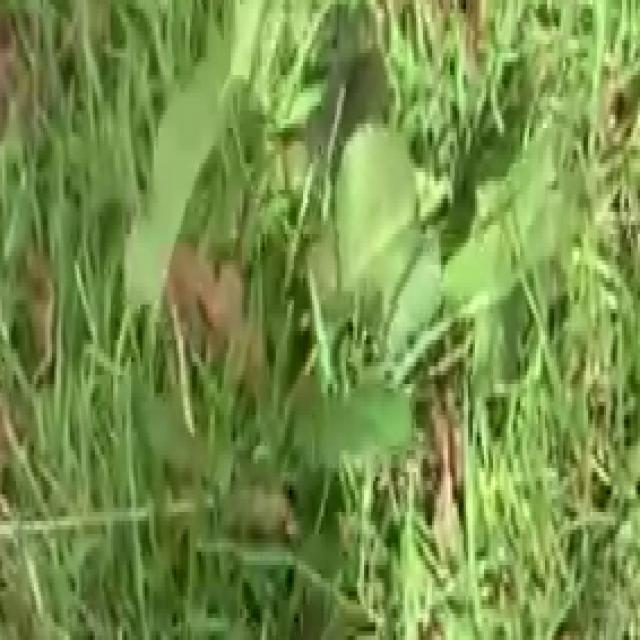organic waste: (100, 0, 568, 525)
